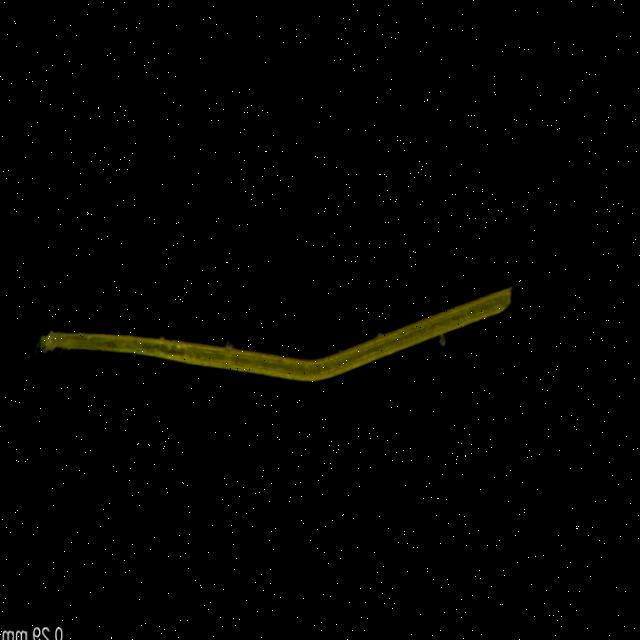Fibre: (29, 272, 518, 384)
